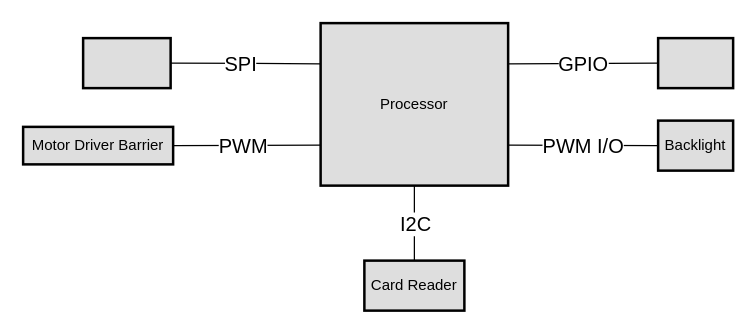
Some shapes in this 755 by 333 pixel diagram are drawn without their labels. Each missing label, with the centre of its shape:
"Flash" belongs at pixel 126 62.
"LCD" belongs at pixel 695 62.
